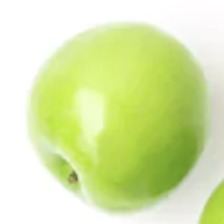apple: (37, 0, 211, 194)
